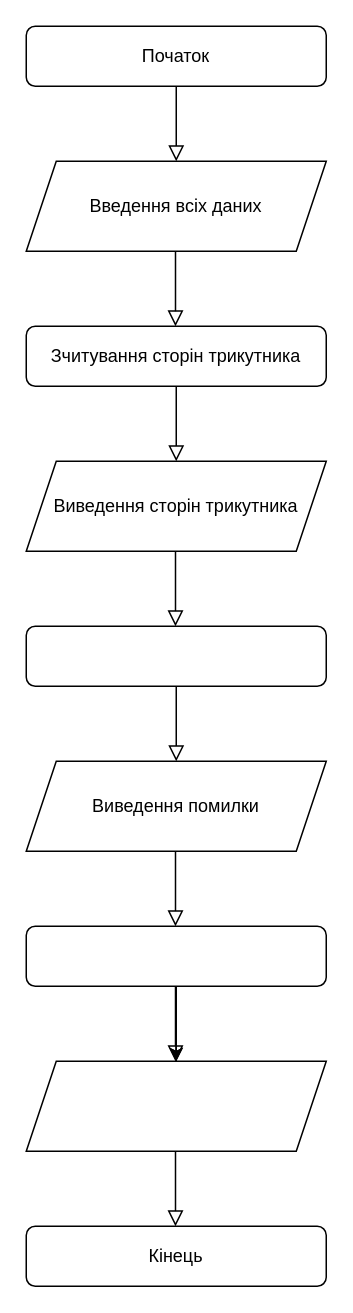
Some shapes in this 353 by 1313 pixel diagram are drawn without their labels. Here are the shapes that lost their labels. From the top down, the centre of each, then its label:
At point (175, 655): "Перевірка параметрів трикутника".
At point (175, 955): "Обчислення площі трикутника".
At point (175, 1105): "Виведення результату".
